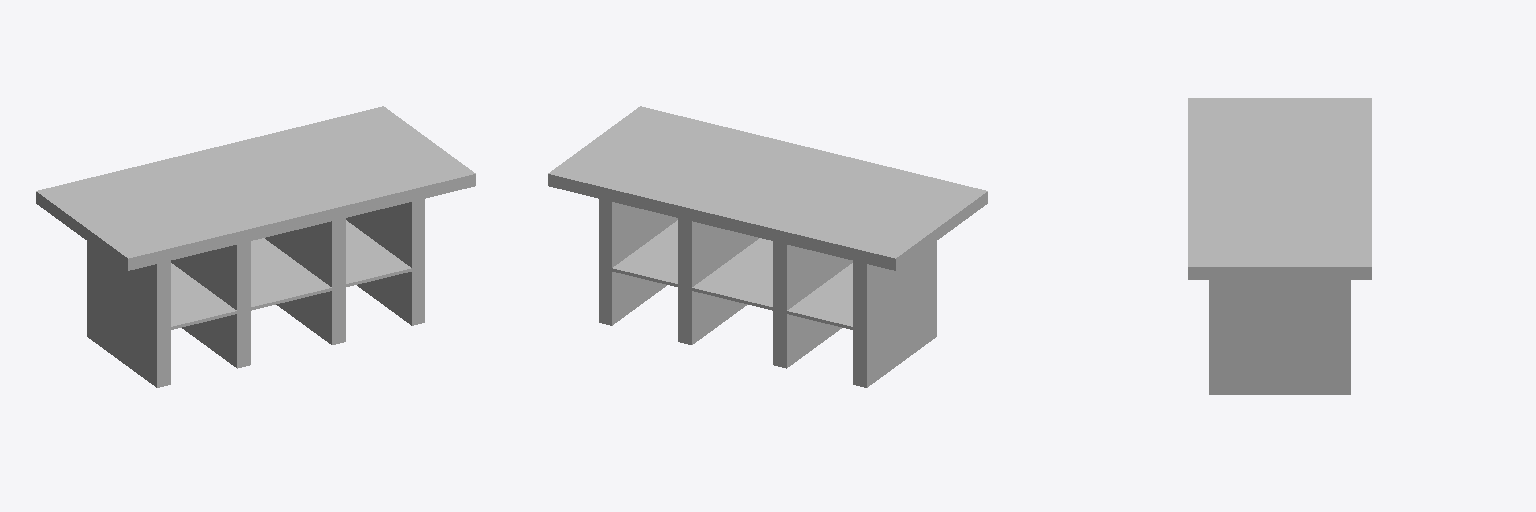
Rendered from Desk.obj.
The picture shows the model from 3 angles: view 1: azimuth 30°, elevation 25°; view 2: azimuth 150°, elevation 25°; view 3: azimuth 270°, elevation 25°; orthographic projection.
Parts seen in each view (by area): view 1: pCube12; view 2: pCube12; view 3: pCube12.
Boxes of the visible parts, x1=… form: pCube12: x1=36, y1=106, x2=475, y2=387; pCube12: x1=548, y1=106, x2=987, y2=387; pCube12: x1=1188, y1=98, x2=1371, y2=394.
Size of the model in its own units: 284 by 115 by 131.